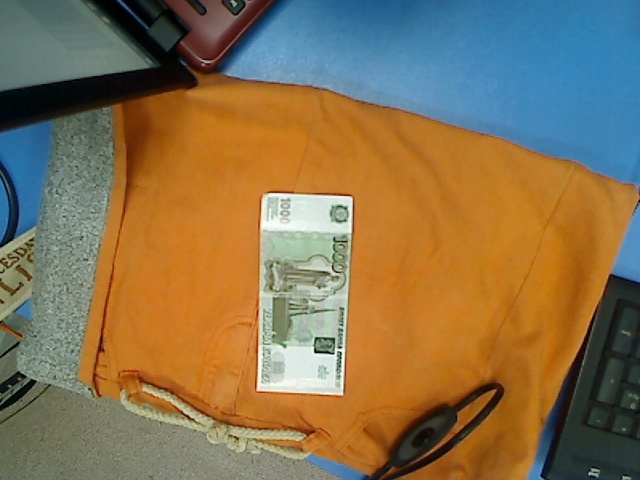banknotes: (254, 191, 352, 396)
